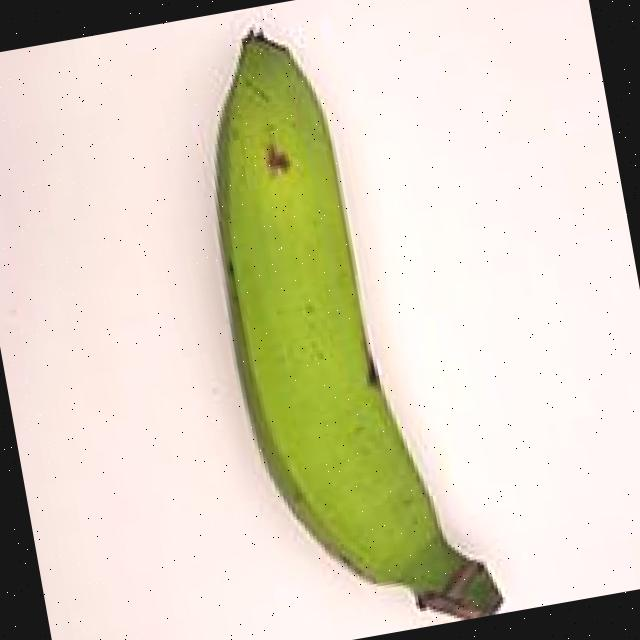Raw: (123, 0, 546, 640)
